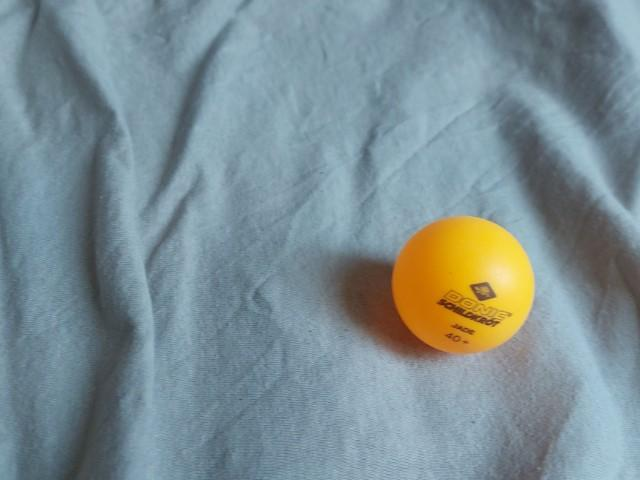oball: (382, 208, 544, 365)
